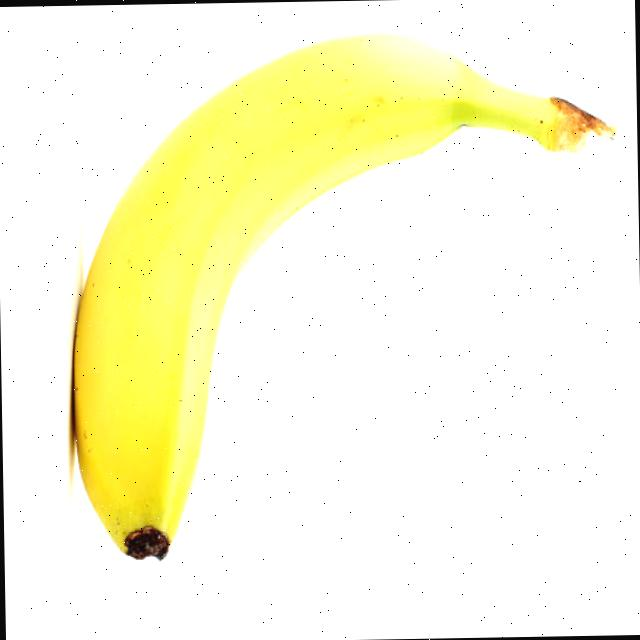Ripe: (63, 14, 582, 567)
